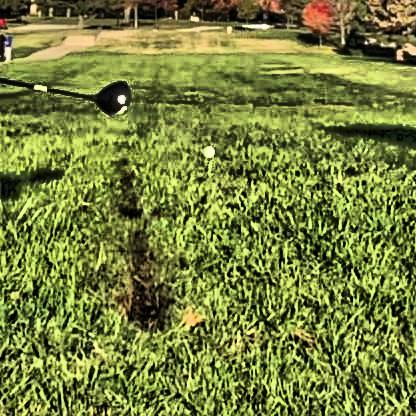golfball: (200, 143, 214, 157)
